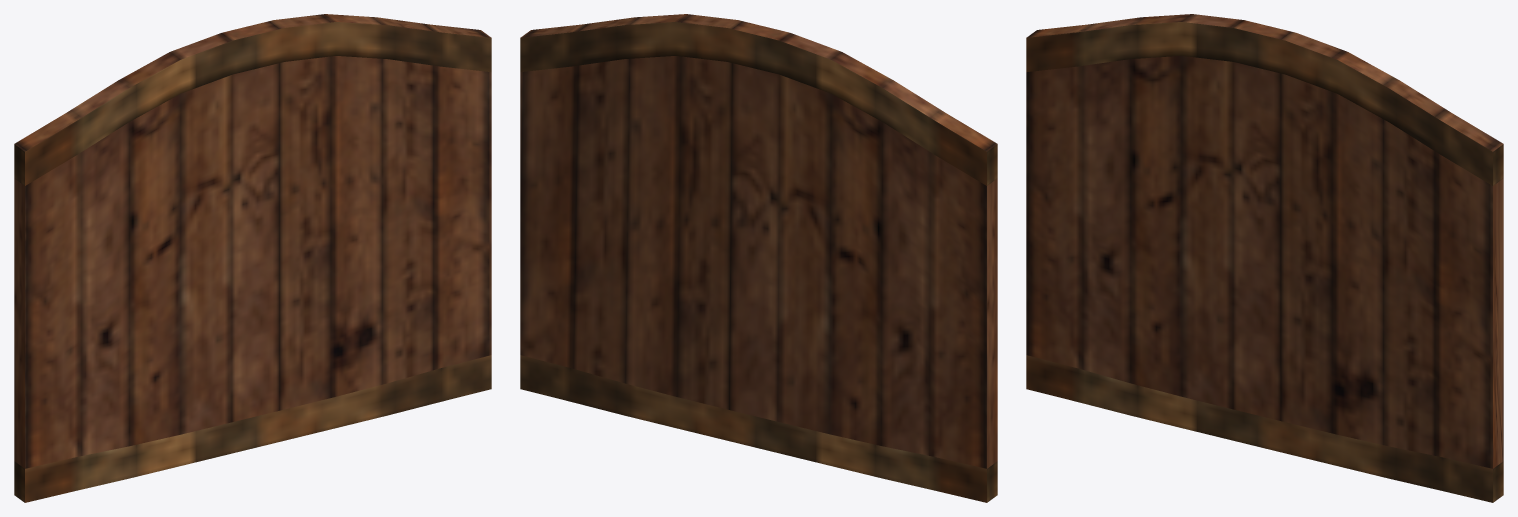
File: booth_divider.fbx
3 views of the same model, side by side, from view 1: azimuth 30°, elevation 25°; view 2: azimuth 150°, elevation 25°; view 3: azimuth 330°, elevation 25° (orthographic).
Visible parts, largest first — view 1: booth_divider; view 2: booth_divider; view 3: booth_divider.
Part boxes in pixels (box(x1,y1,x2,y2)): booth_divider: box(14, 14, 491, 502); booth_divider: box(520, 14, 997, 502); booth_divider: box(1026, 14, 1503, 502).
Bounding box in the file's own units: 200 × 169 × 8.
